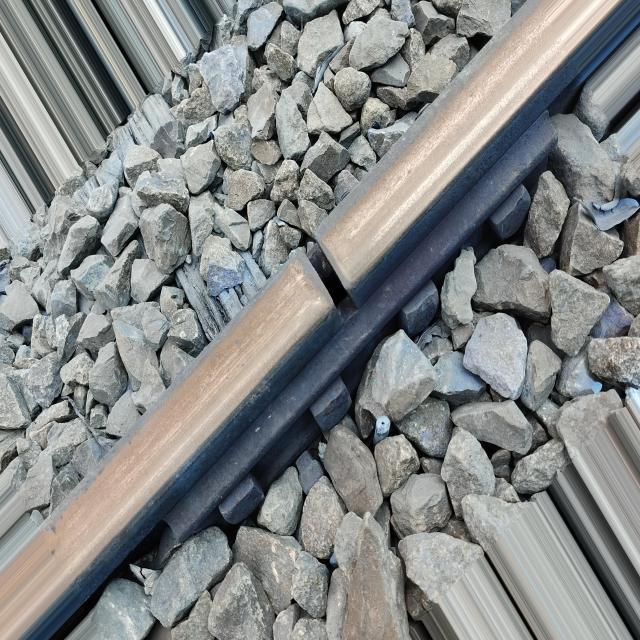Good Joint: (156, 110, 557, 562)
